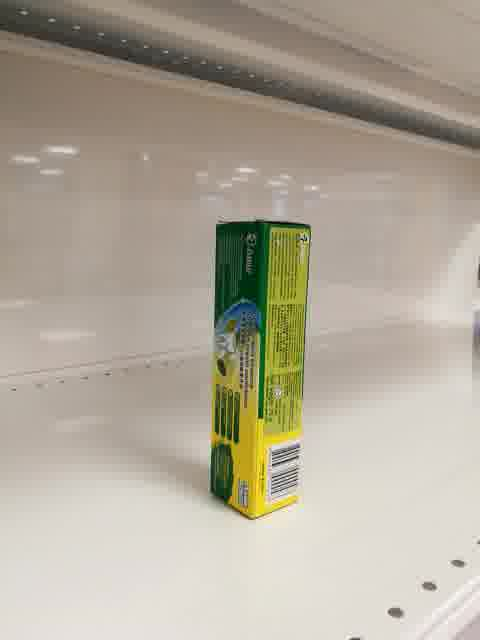toothpaste: (210, 219, 312, 523)
